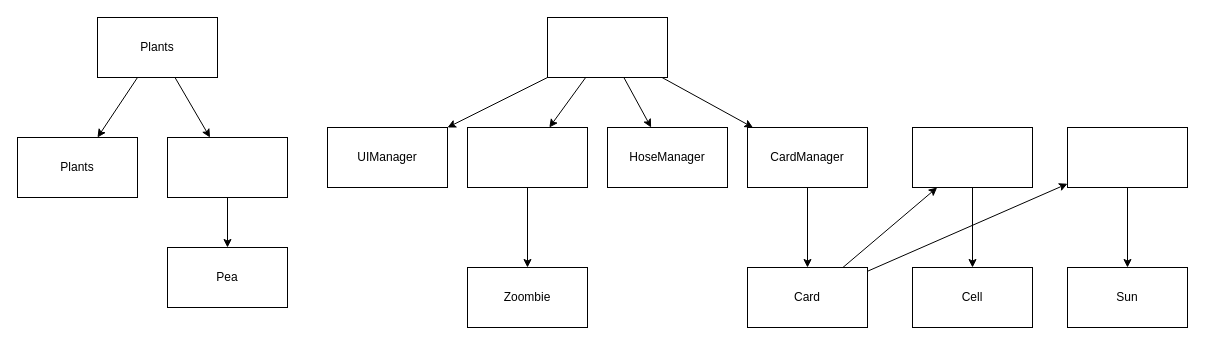
Some shapes in this 1205 by 345 pixel diagram are drawn without their labels. The shapes that lost their labels are listed below. From the top down, each one's centre as x and y in pixels, then its label:
At point (607, 47): "GameManager".
At point (227, 167): "PeaShooter".
At point (527, 157): "ZombieManager".
At point (972, 157): "HandManager".
At point (1127, 157): "SunManager".
